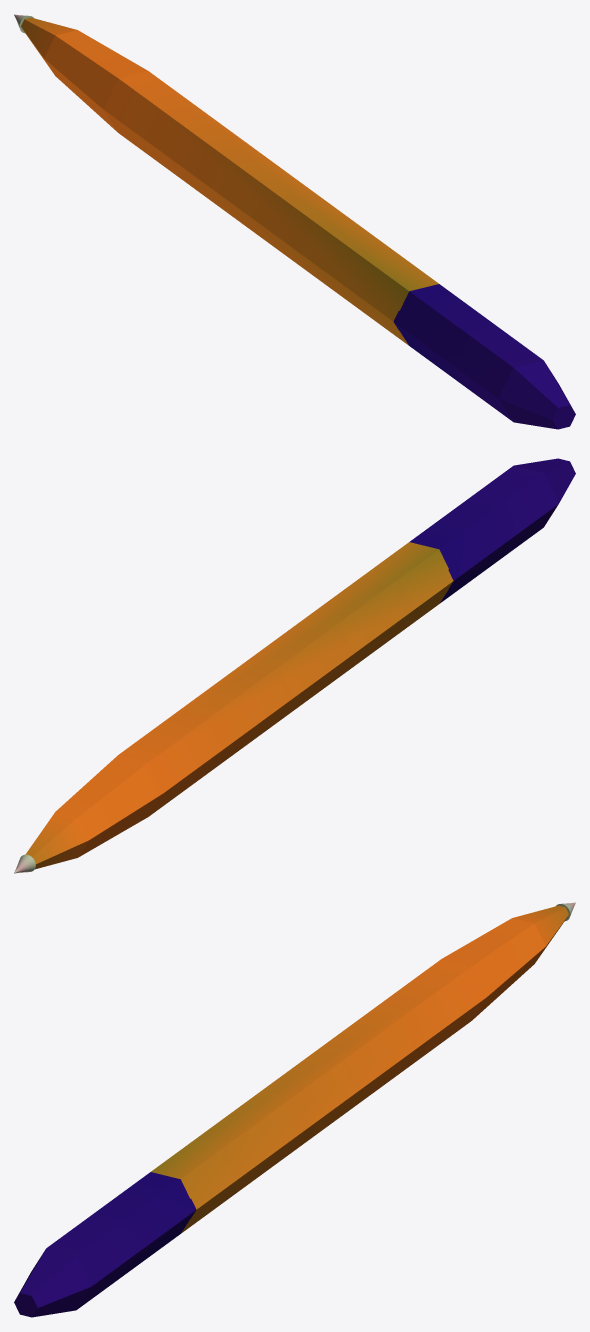
3 views of the same model, one above another, from view 1: azimuth 30°, elevation 25°; view 2: azimuth 150°, elevation 25°; view 3: azimuth 330°, elevation 25° (orthographic).
Parts seen in each view (by area): view 1: shaft, cap; view 2: shaft, cap; view 3: shaft, cap.
Part boxes in pixels (x1,y1,x2,y2): shaft: (21,17,438,345); cap: (393,284,575,429); shaft: (25,542,453,869); cap: (410,458,575,603); shaft: (151,905,568,1233); cap: (14,1172,196,1317).
Bounding box in the file's own units: 0.00886 × 0.00768 × 0.14.
